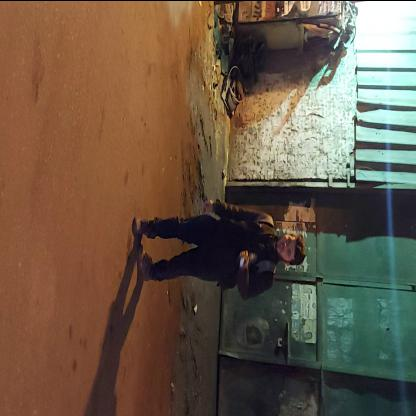long weapon: (237, 235, 267, 291)
